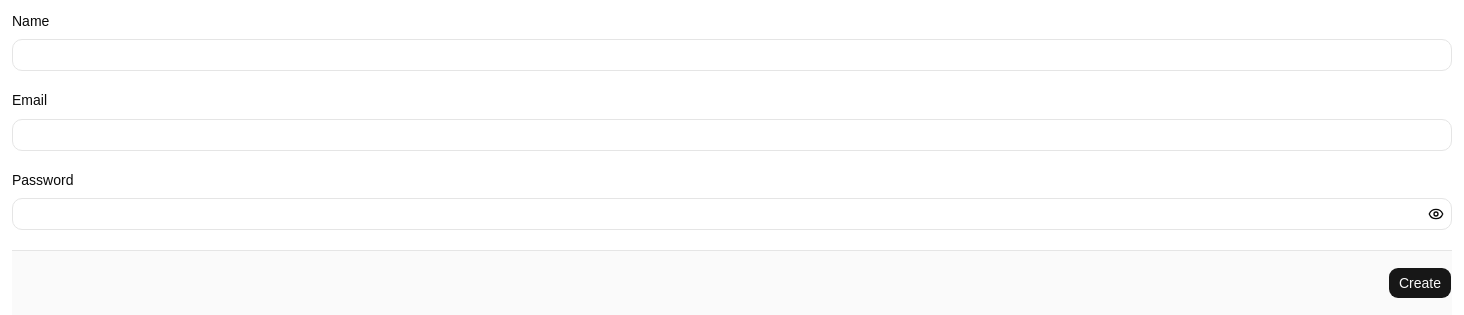
Scenario: CreateUserForm — after it calls the API › will not take a second submit while the first is unanswered
Type "New Hire" into the field labelled "Name" at coordinates (732, 55), box [12,39,1452,71]
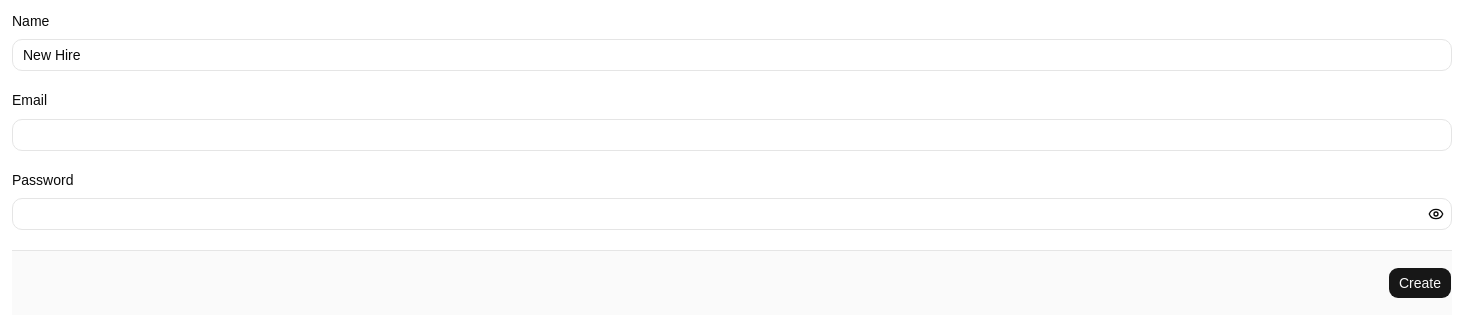
Type "New.Hire@Test.LOCAL" into the field labelled "Email" at coordinates (732, 134), box [12,118,1452,150]
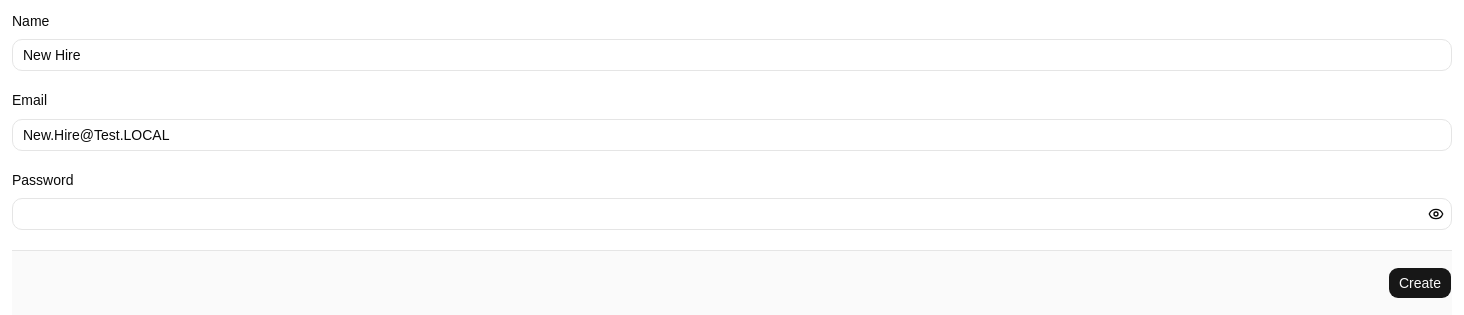
Type "password1234" into the password field labelled "Password" at coordinates (732, 214), box [12,198,1452,230]
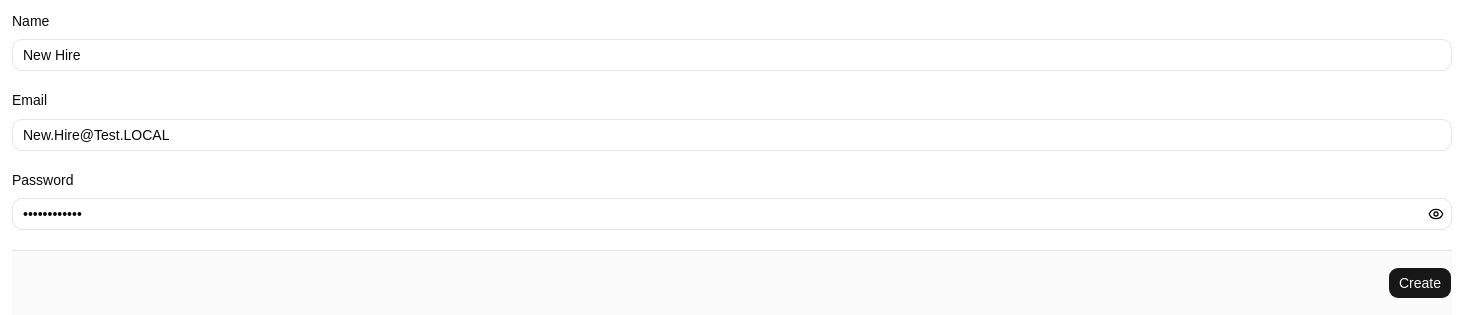
Click the button "Create" at coordinates (1420, 283), box [1388,267,1452,299]
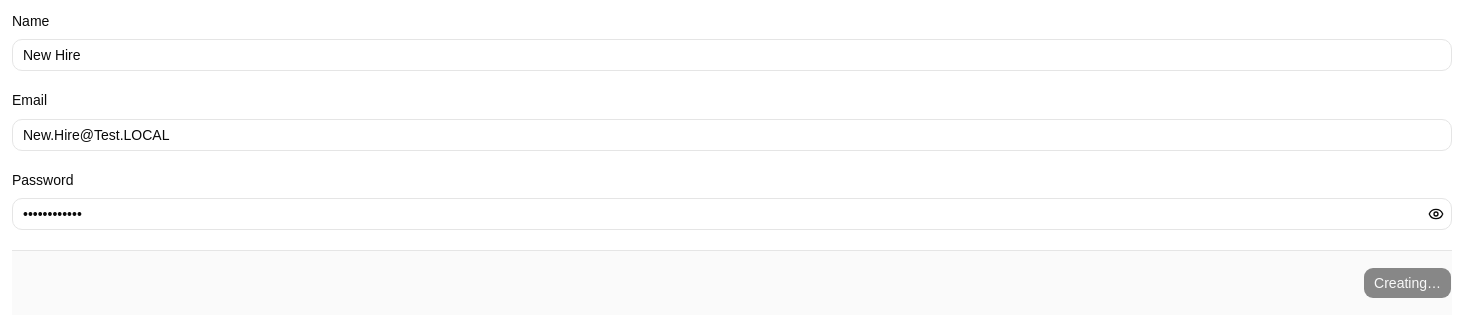
Expected: the button "Creating…" is disabled
Click the button "Creating…" at coordinates (1408, 283), box [1363,267,1452,299]
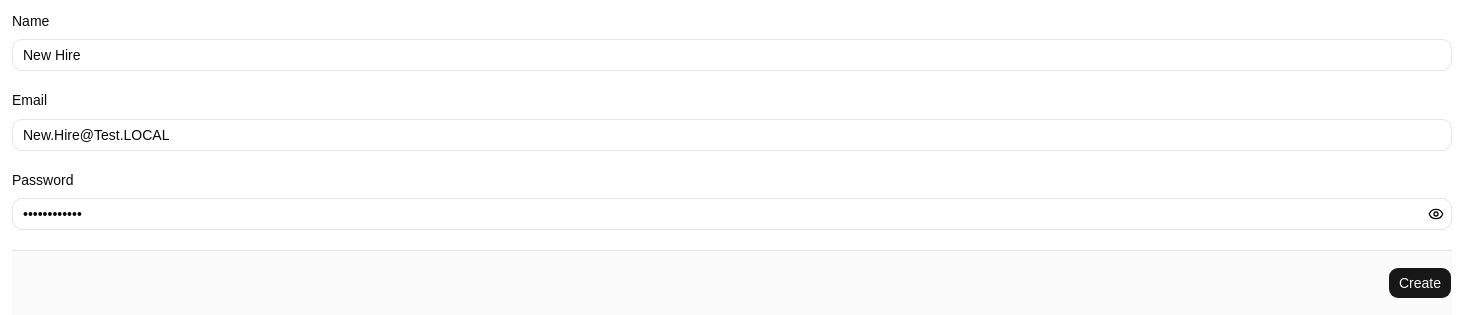
Expected: the button "Create" is enabled, [1388,267,1452,299]
